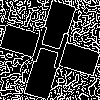H: (25, 25, 73, 79)
